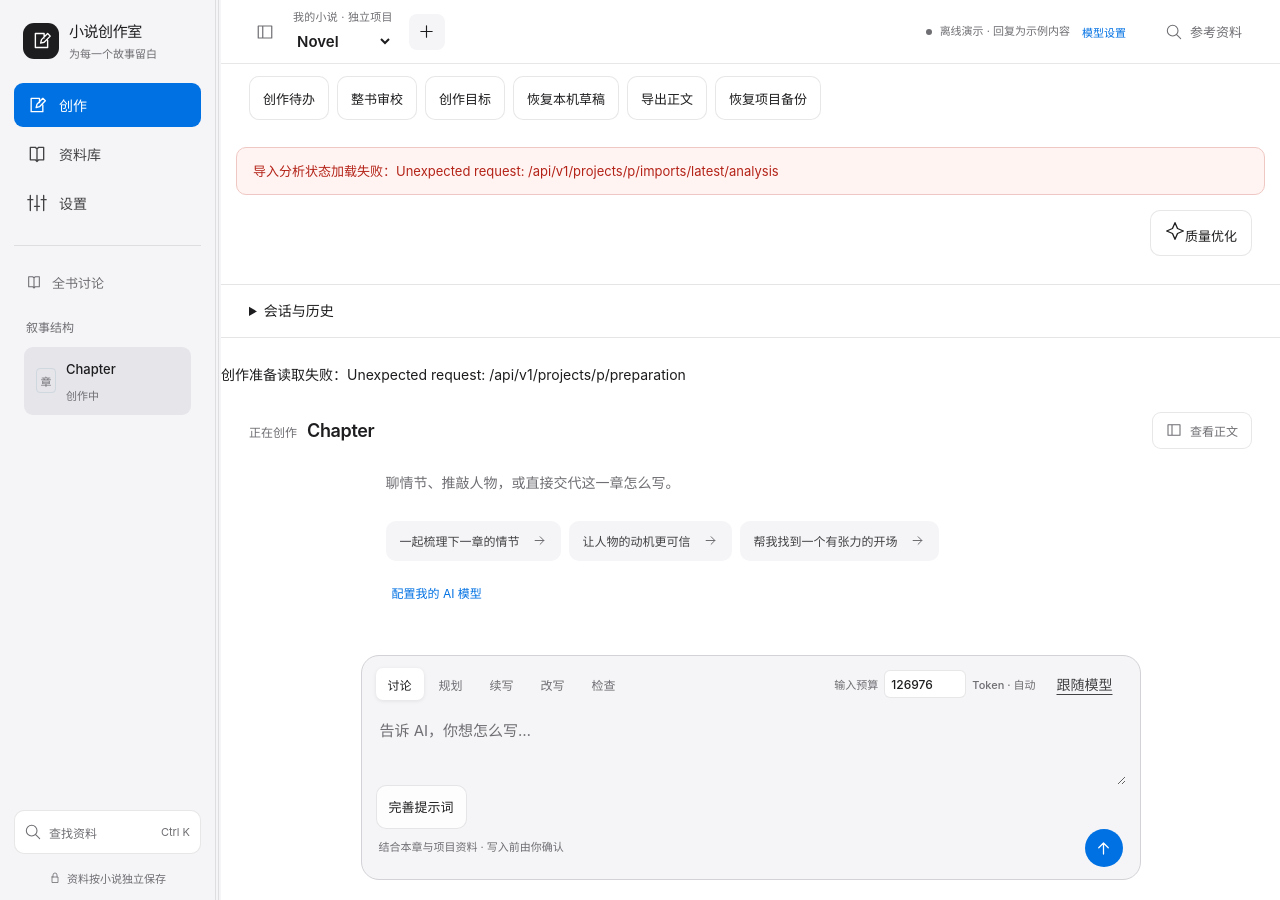
Test: reports which retained dependencies reactivate after restoring an entity
The image size is (1280, 900).
(page scrolled)
Click the button "资料库" at (108, 154), box [14,132,201,176]
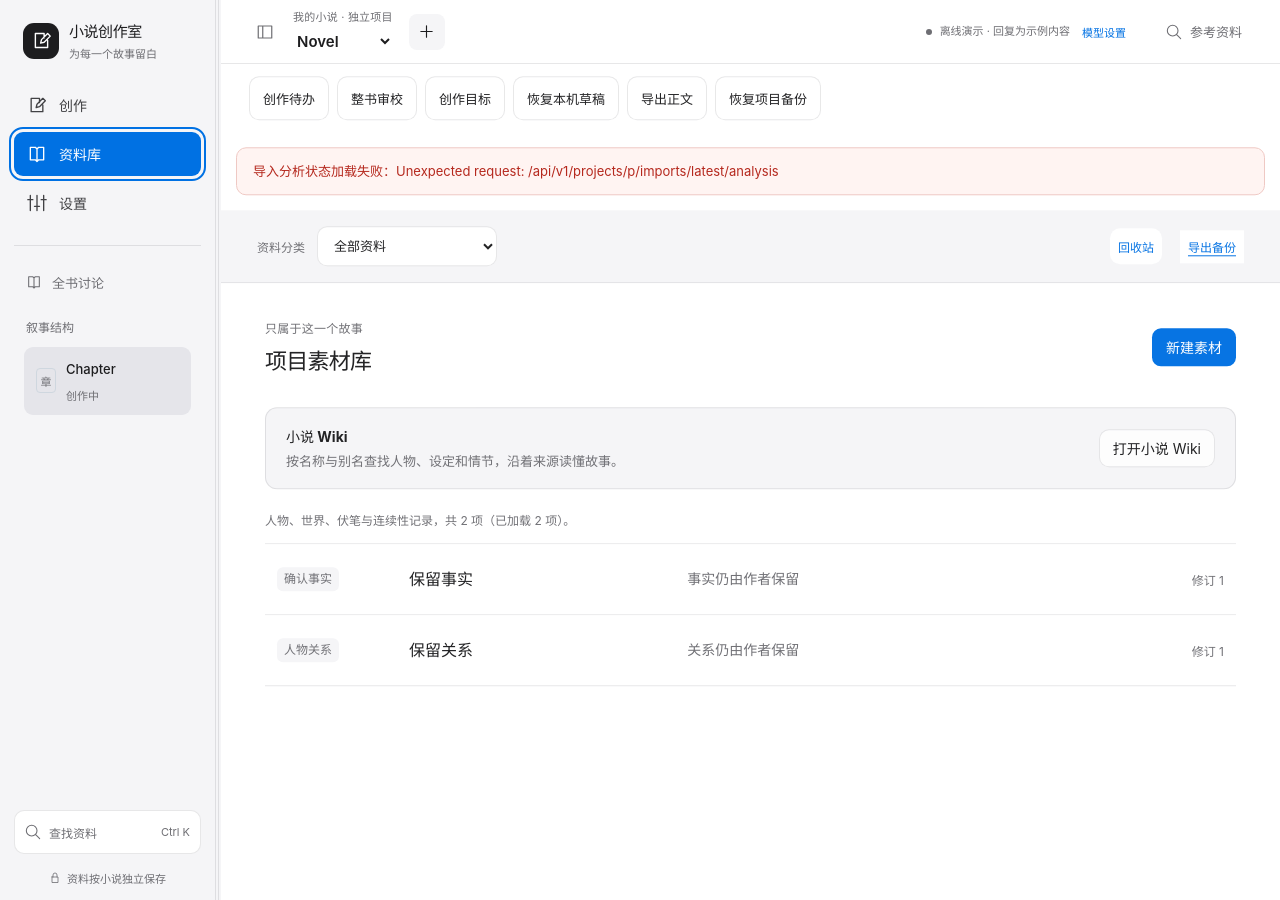
Click the button "回收站" at (1136, 246), box [1110,228,1162,264]
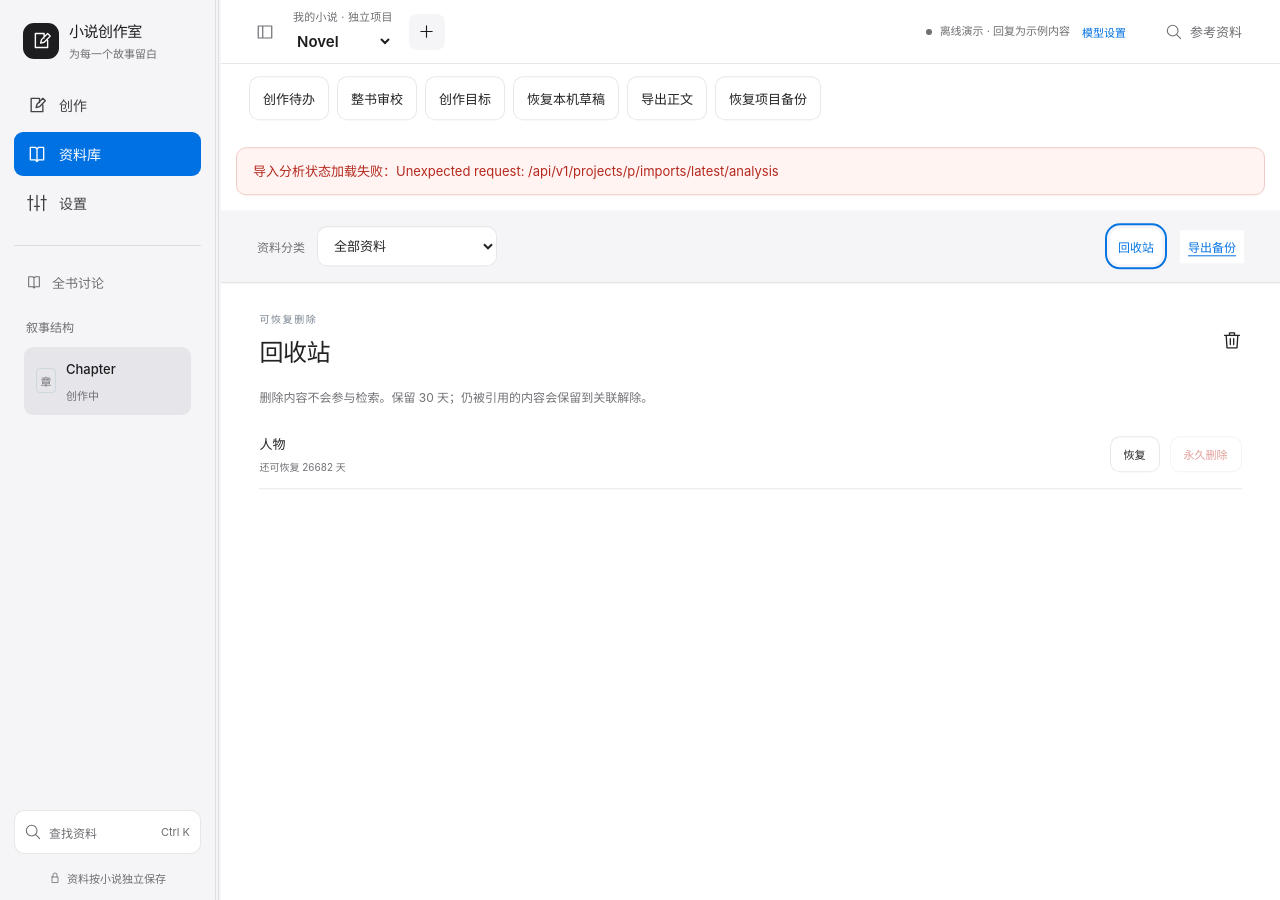
Click the button with aria-label "恢复人物" at (1135, 455), box [1110,437,1160,473]
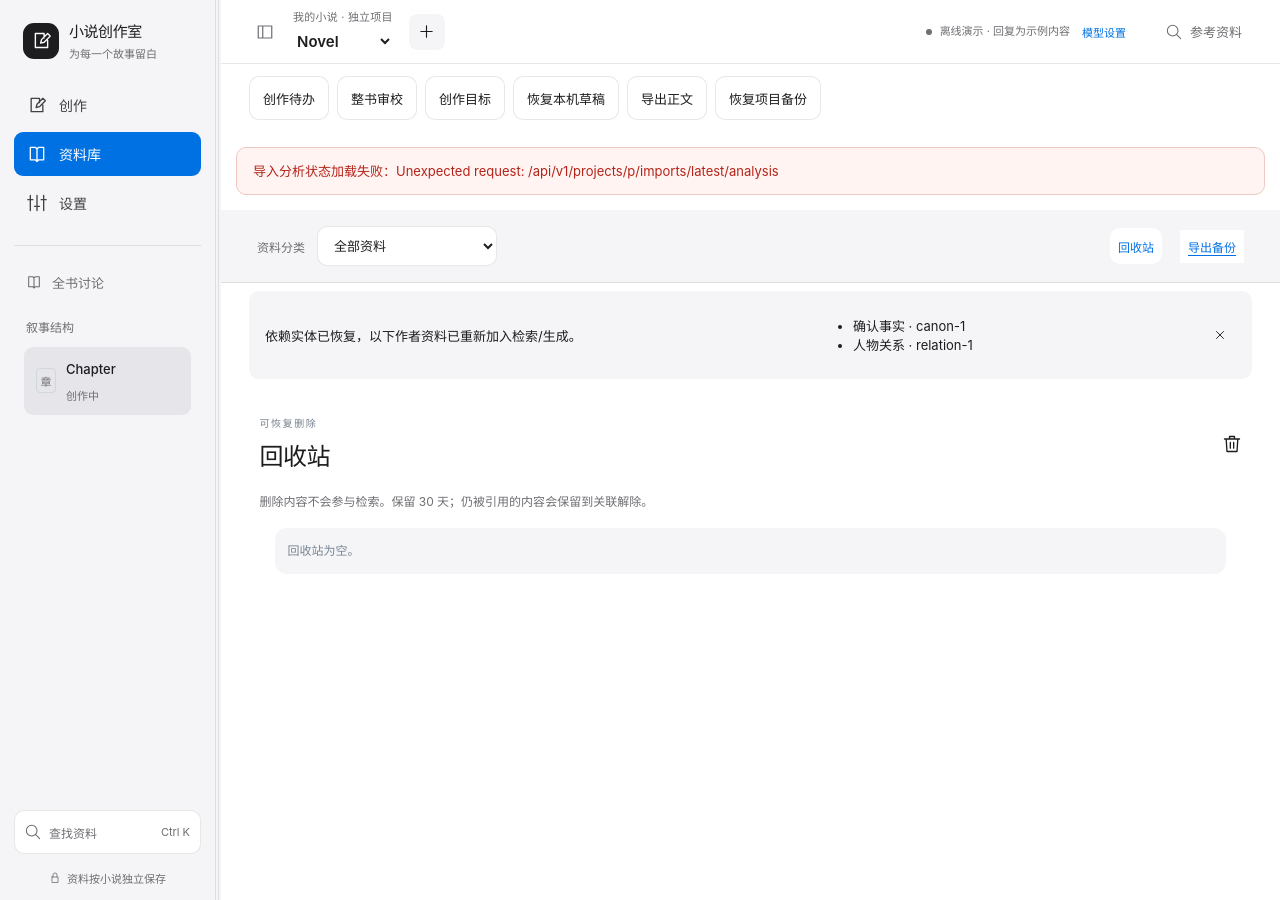
expect the text "依赖实体已恢复，以下作者资料已重新加入检索/生成。" is shown: met, box [265,326,582,345]
expect the list item "确认事实 · canon-1" is shown: met, box [853,316,973,335]
expect the list item "人物关系 · relation-1" is shown: met, box [853,335,973,354]
